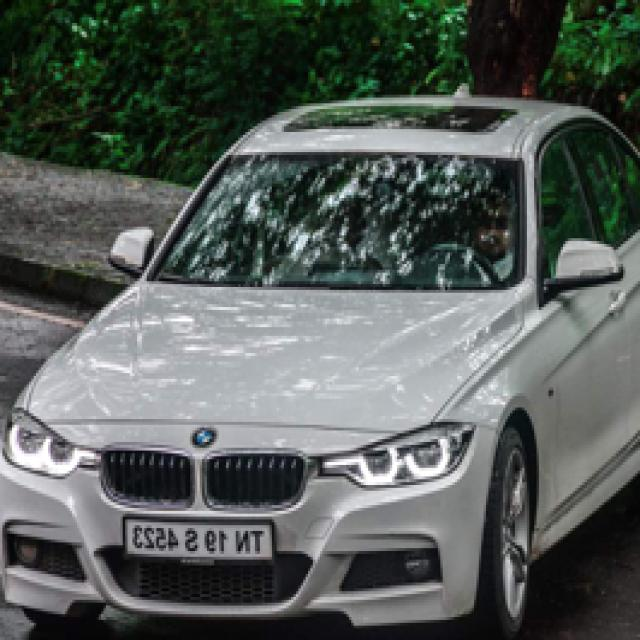number-plate: (114, 525, 277, 561)
